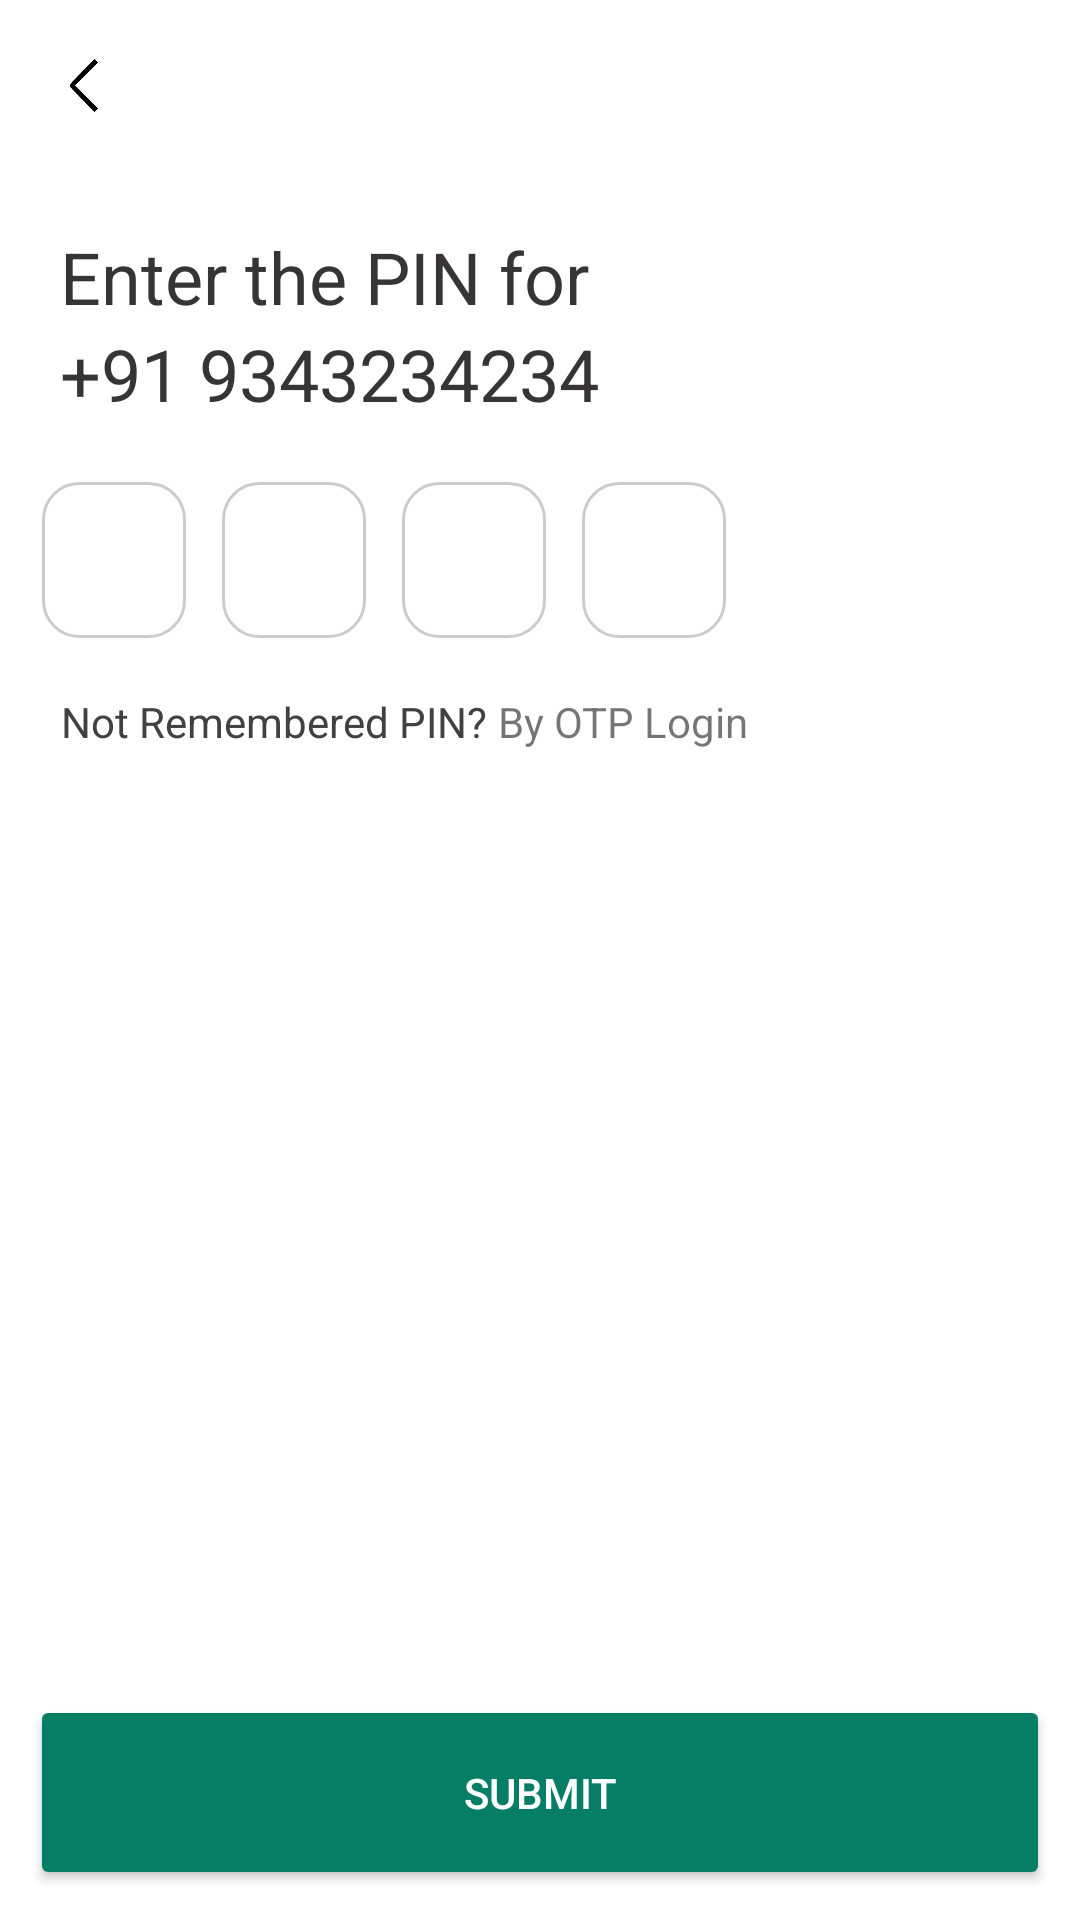

Screen size 1080 × 1920. Icon name, then its center in pixels as point (x, y):
Back: point (84, 85)
